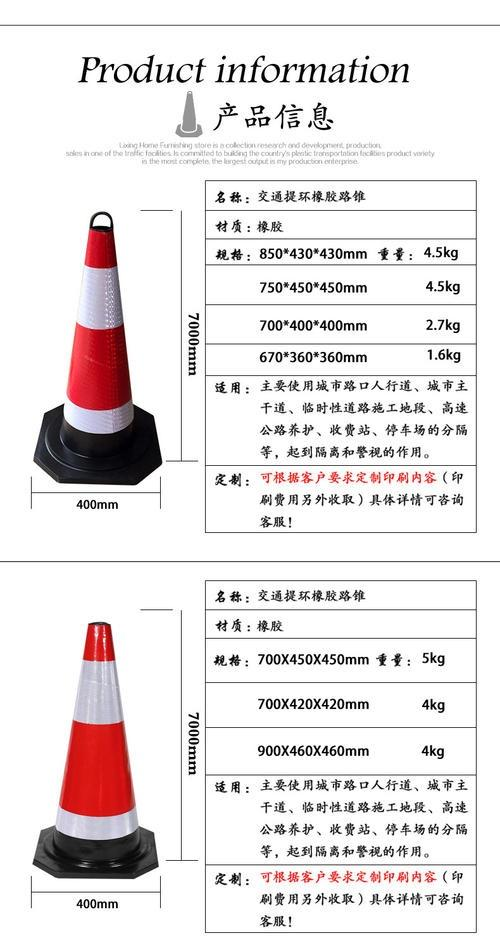cone_barrel: (39, 620, 156, 872), (46, 222, 149, 468)
